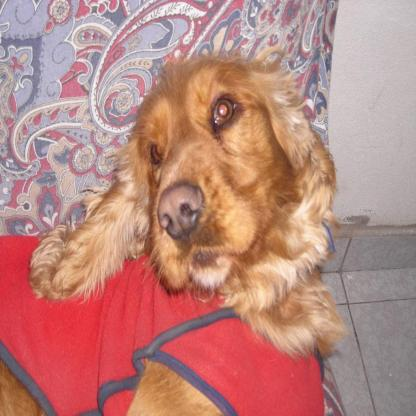cocker_spaniel: (0, 50, 344, 414)
